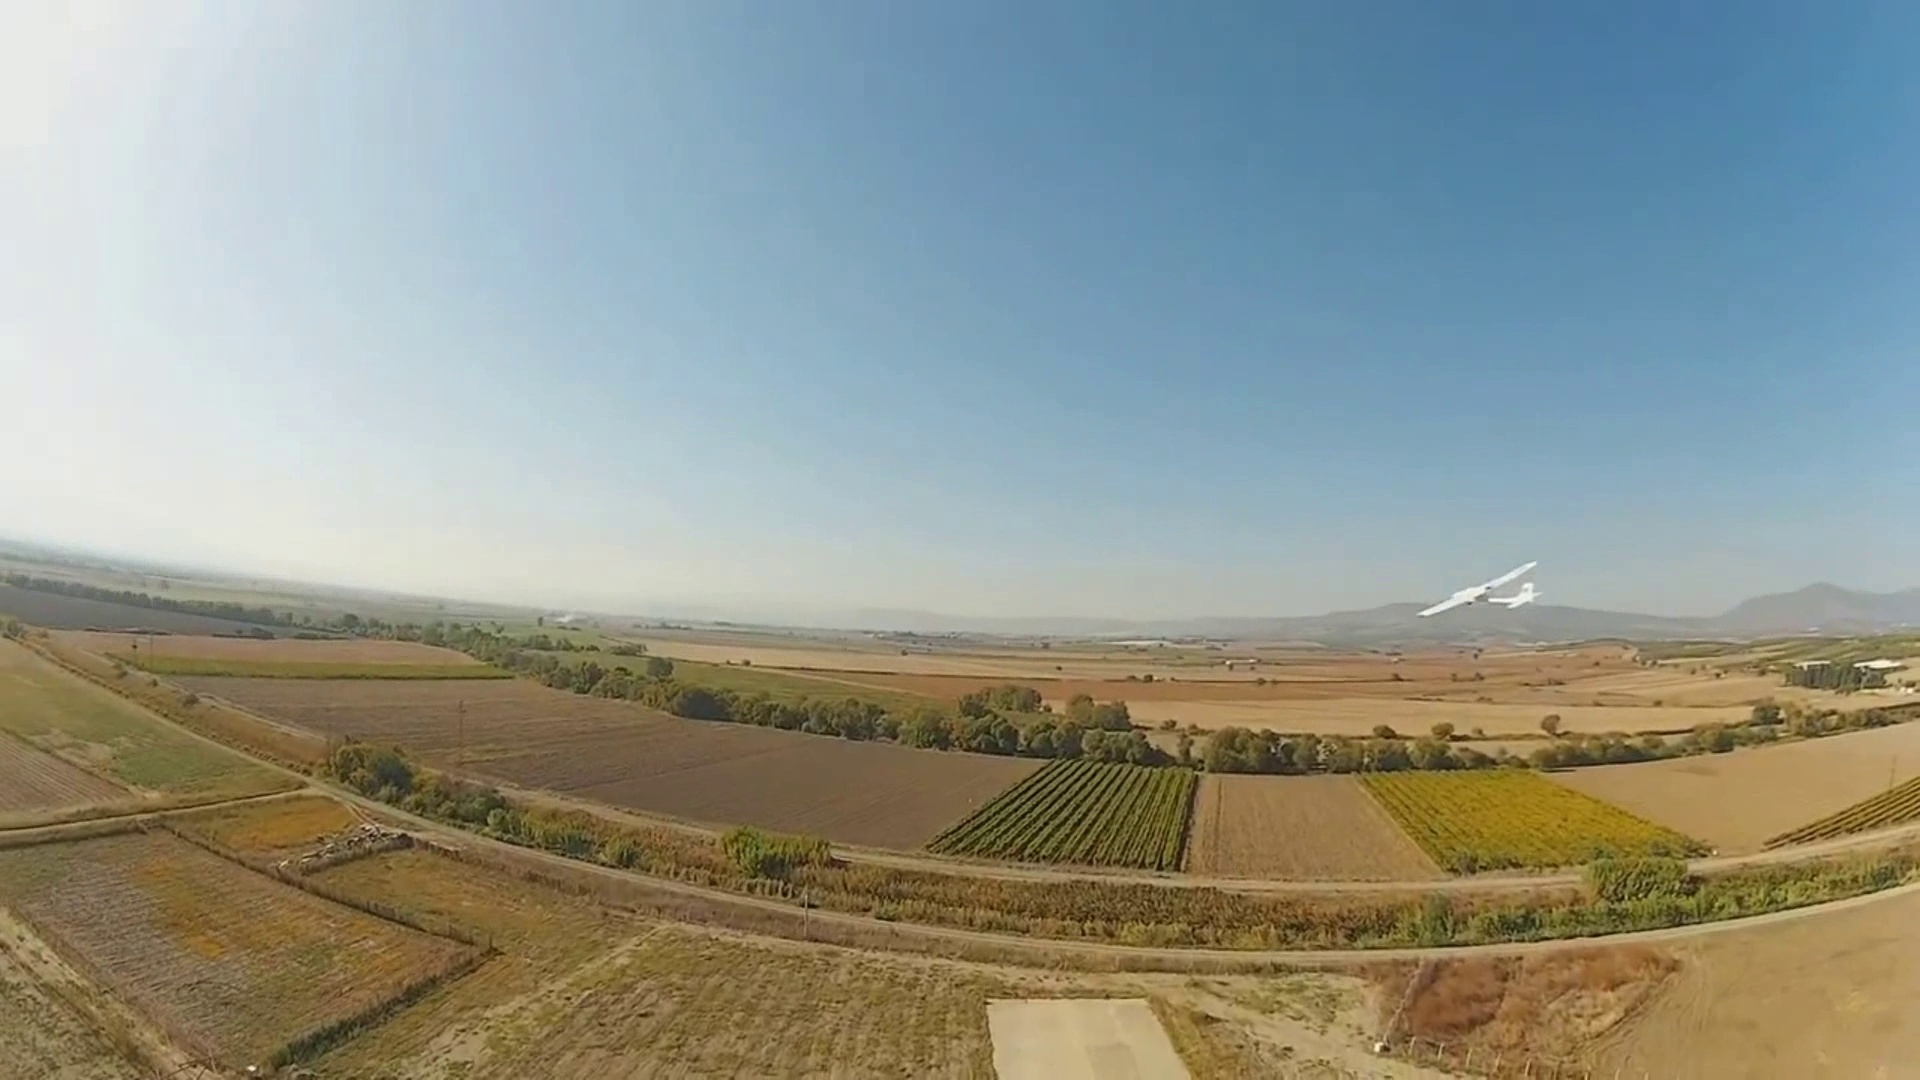airplane: (1422, 560, 1536, 617)
